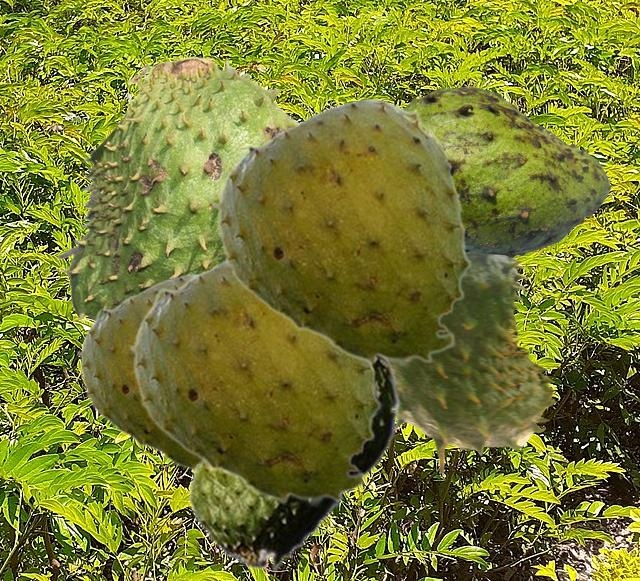guyabano: (212, 97, 471, 368), (56, 56, 298, 320), (128, 259, 381, 507), (184, 360, 400, 573), (394, 253, 556, 475), (404, 85, 610, 257), (76, 273, 198, 470)
